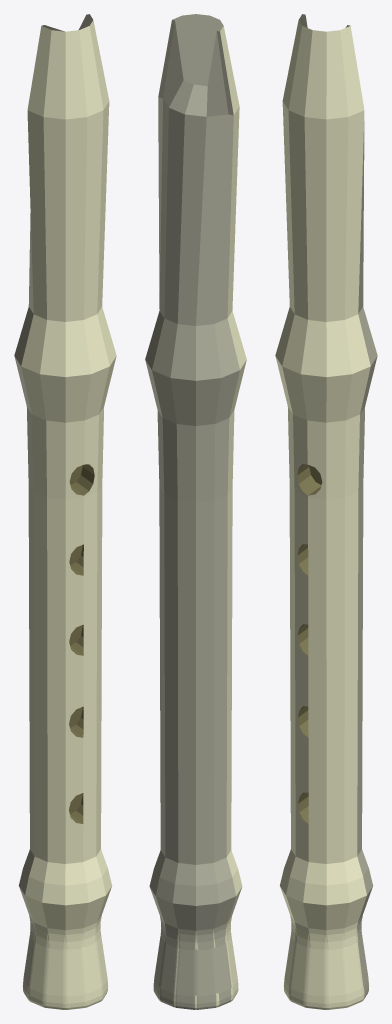
File: Flauta.obj
The picture shows the model from 3 angles, left to right: view 1: azimuth 30°, elevation 25°; view 2: azimuth 150°, elevation 25°; view 3: azimuth 330°, elevation 25°; orthographic projection.
Parts seen in each view (by area): view 1: Flute_Cylinder_Cylinder.001; view 2: Flute_Cylinder_Cylinder.001; view 3: Flute_Cylinder_Cylinder.001.
Boxes of the visible parts, x1,y1,x2,y2 form: Flute_Cylinder_Cylinder.001: [14, 14, 116, 1009]; Flute_Cylinder_Cylinder.001: [145, 14, 246, 1009]; Flute_Cylinder_Cylinder.001: [275, 14, 377, 1009].
Bounding box in the file's own units: 0.0559 × 0.5862 × 0.0559.
Materials: 1 (1 with a texture image).
